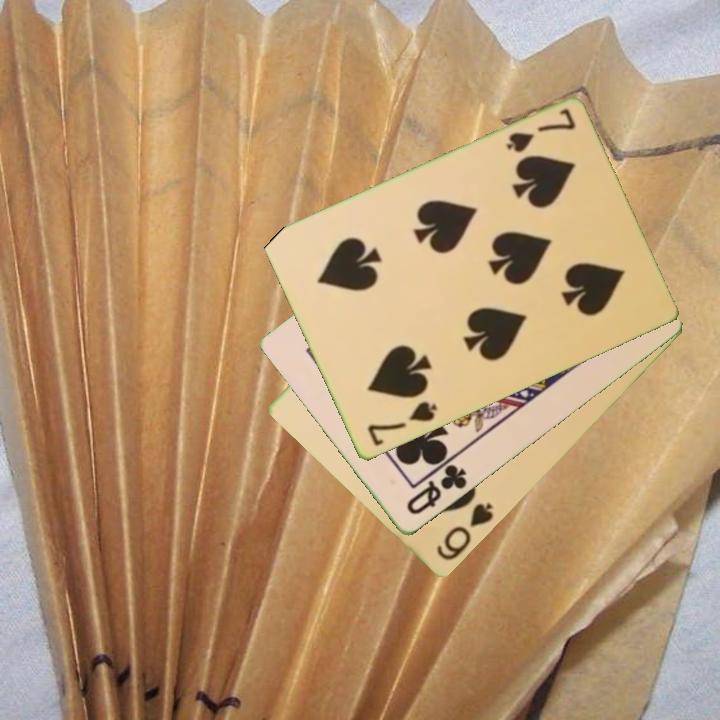6s: (432, 500, 497, 564)
7s: (363, 398, 440, 450), (502, 105, 578, 157)
Qc: (403, 454, 470, 519)
